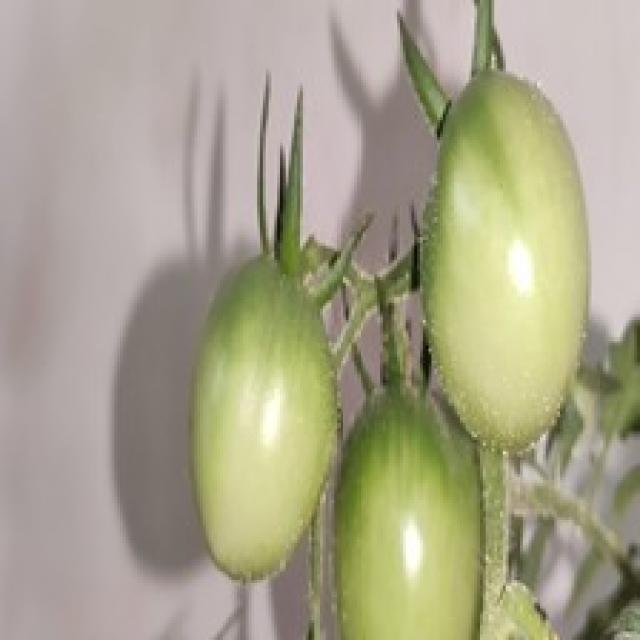yesil: (122, 28, 624, 640)
